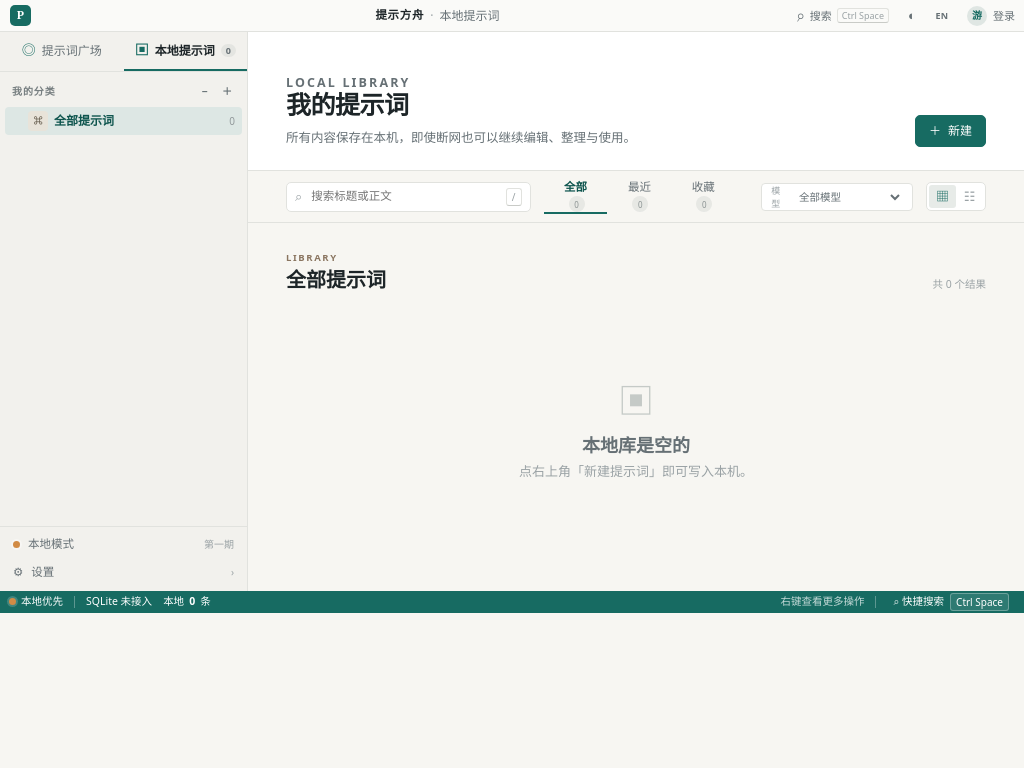
Test: WorkbenchShell › opens login from publish and resumes after success
Click the tab "◎ 提示词广场" at (62, 52), box [0,32,124,71]
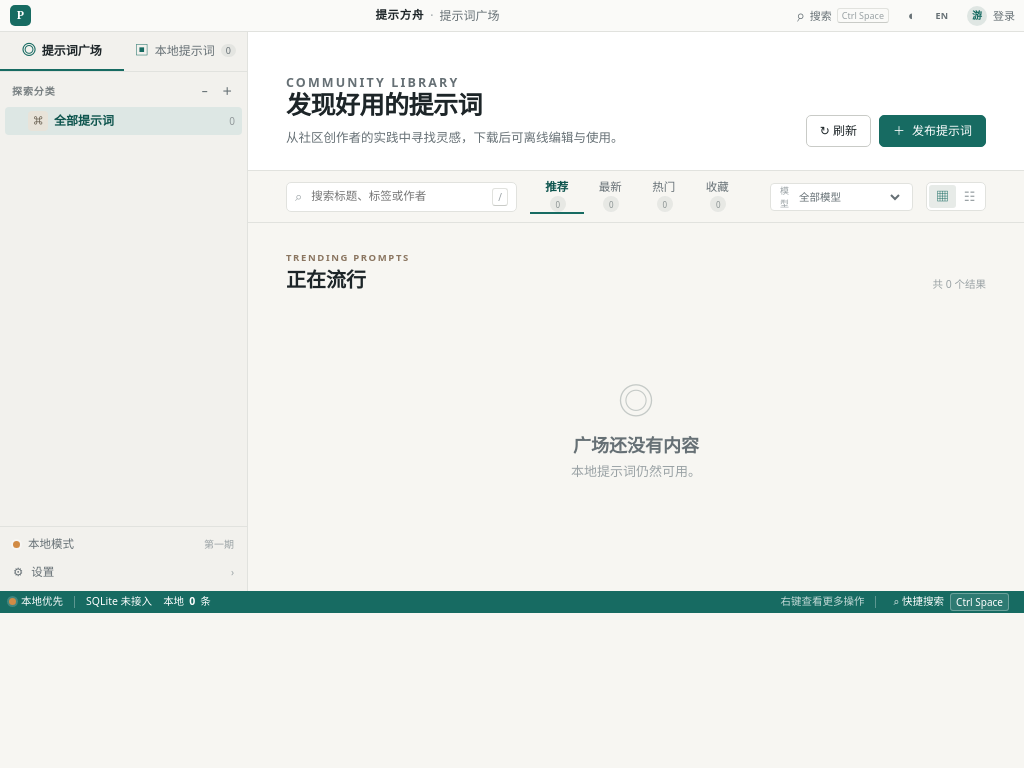
Click the button with test id "publish-prompt" at (932, 131), box [879,115,986,147]
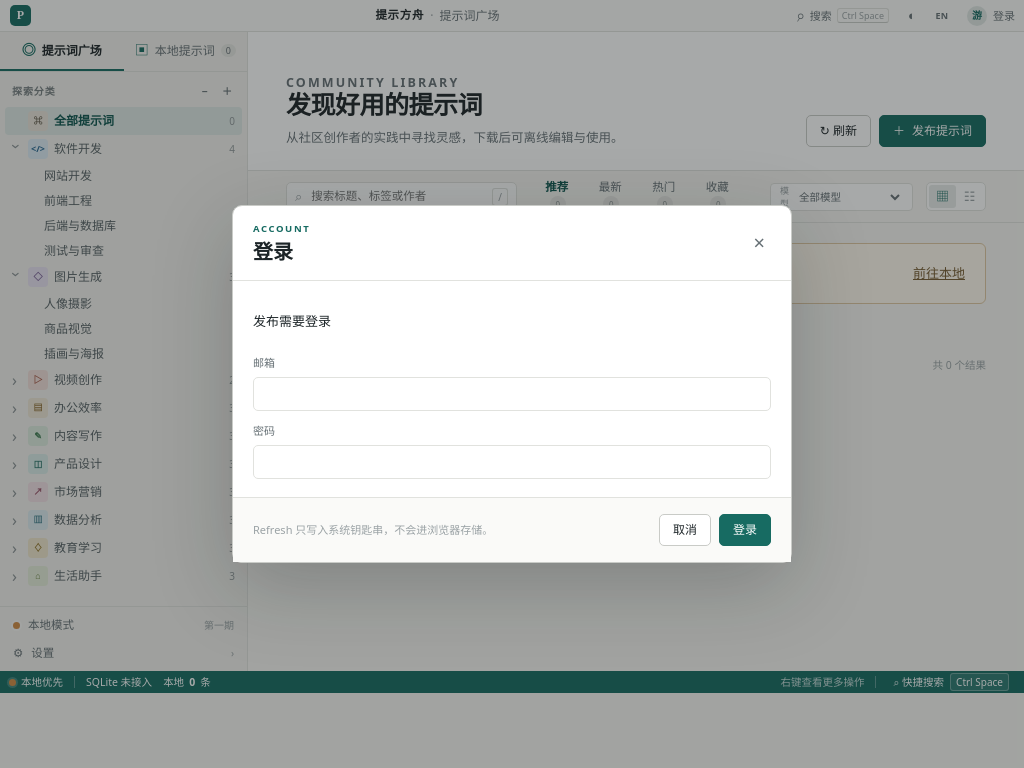
Expected: the text with test id "login-reason" reads "发布需要登录", [253,312,331,330]
Type "dev@promptark.local" into the field with test id "login-email" at (512, 394), box [253,377,771,411]
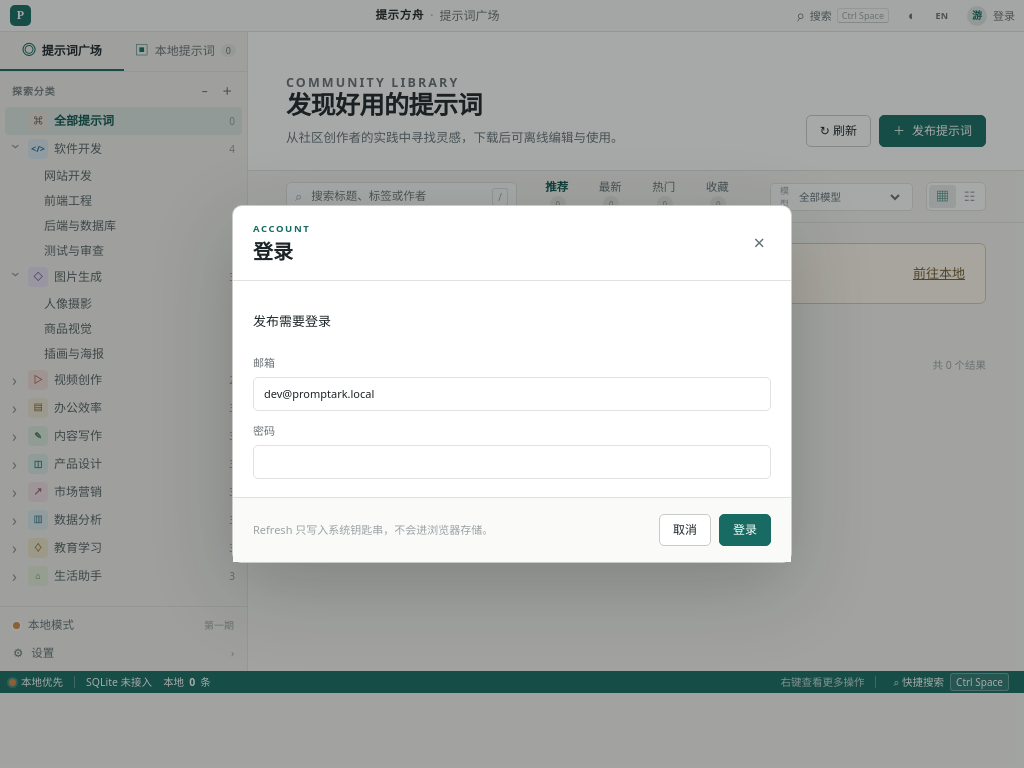
Type "devpass" into the password field with test id "login-password" at (512, 462), box [253,445,771,479]
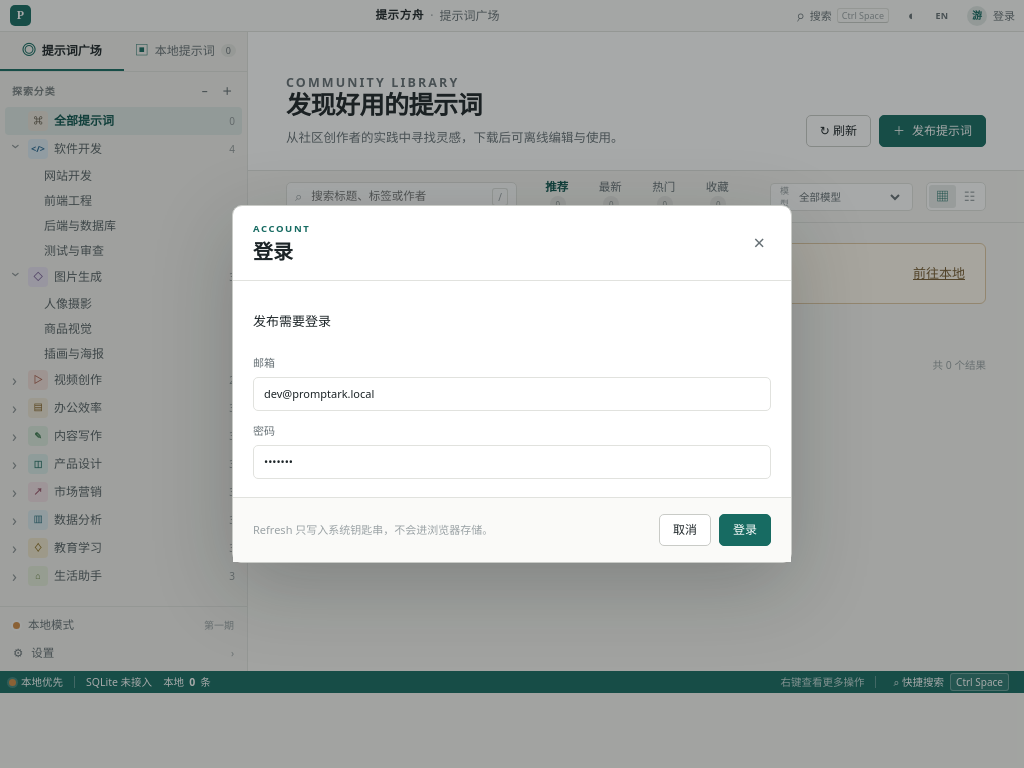
Click the button with test id "login-submit" at (745, 530), box [719,514,771,546]
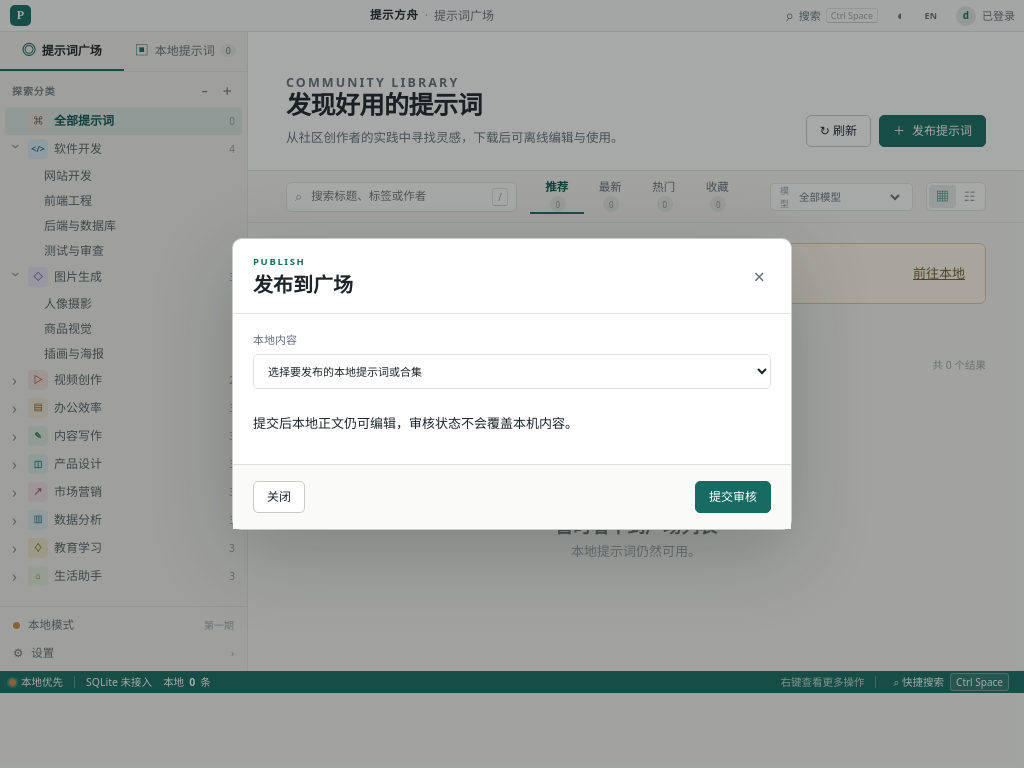
Expected: the element with test id "publish-resume" is shown
